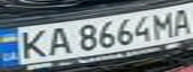4: (133, 14, 157, 43)
6: (96, 18, 121, 50), (115, 16, 139, 46)
8: (75, 20, 100, 52)
A: (42, 25, 75, 56), (166, 6, 193, 36)
K: (12, 27, 51, 61)
M: (148, 9, 178, 38)
